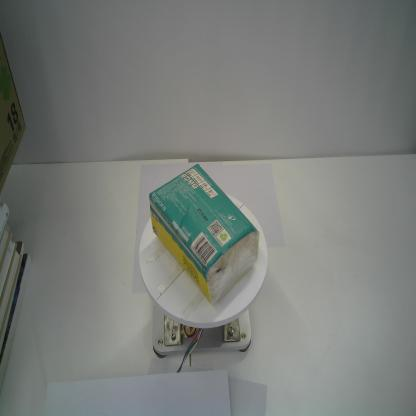Tissue: (148, 162, 260, 304)
